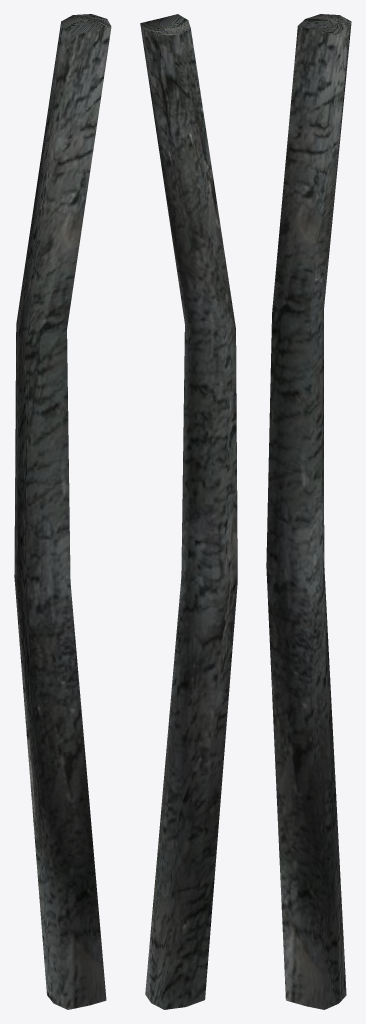
Rendered from prop_wood_debris_small_burnt_02.glb.
The picture shows the model from 3 angles, left to right: view 1: azimuth 30°, elevation 25°; view 2: azimuth 210°, elevation 25°; view 3: azimuth 330°, elevation 25°; orthographic projection.
Bounding box in the file's own units: 6.03 × 68.26 × 4.36.
1 material, 1 textured.
